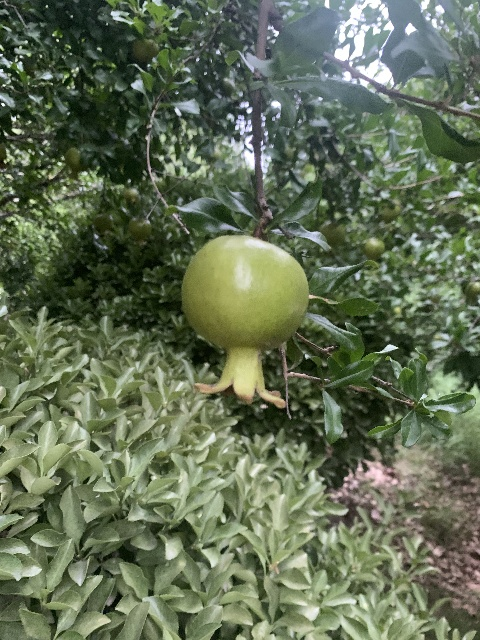mid-growth: (180, 234, 310, 408), (131, 38, 158, 65), (320, 223, 345, 249), (127, 219, 151, 245), (362, 237, 385, 263), (64, 147, 82, 180), (93, 214, 112, 237), (122, 188, 138, 205)
